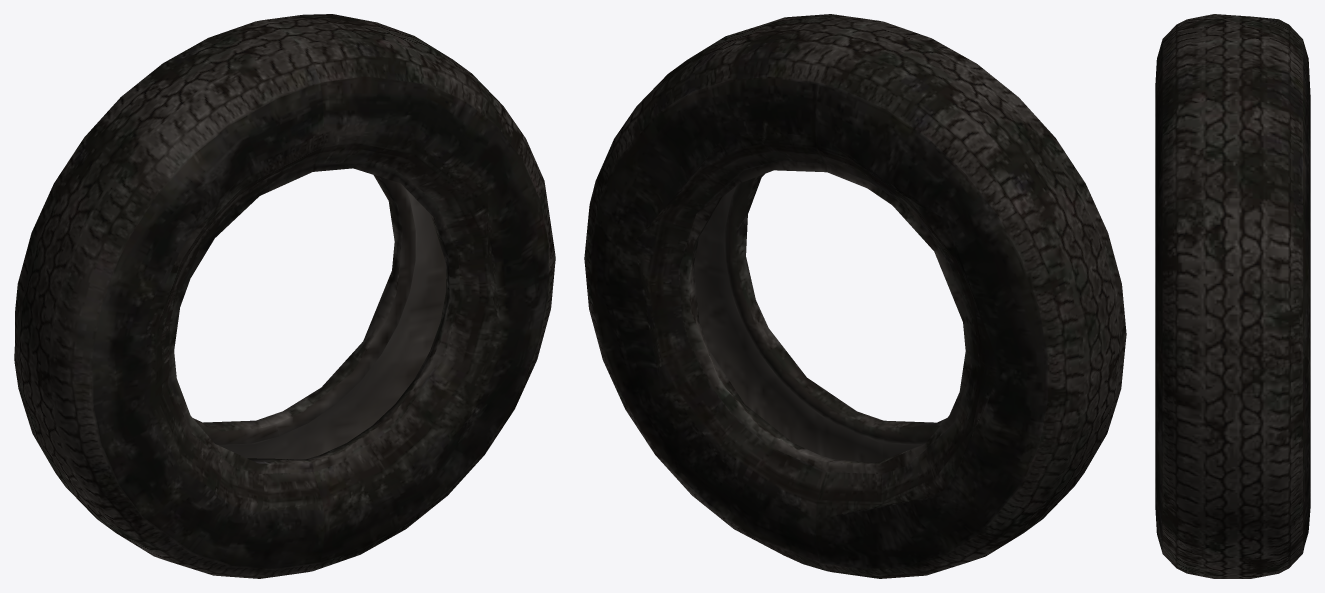
The model's file is old_tyre.glb.
3 views of the same model, side by side, from view 1: azimuth 30°, elevation 25°; view 2: azimuth 150°, elevation 25°; view 3: azimuth 270°, elevation 25° (orthographic). The views are drawn at different scales.
Visible parts, largest first — view 1: old_tyre; view 2: old_tyre; view 3: old_tyre.
Boxes of the visible parts, <box> form: old_tyre: <box>14,14,555,578</box>; old_tyre: <box>584,14,1126,578</box>; old_tyre: <box>1155,14,1310,578</box>.
Size of the model in its own units: 0.6 by 0.6 by 0.165.
Materials: 1 (1 with a texture image).
